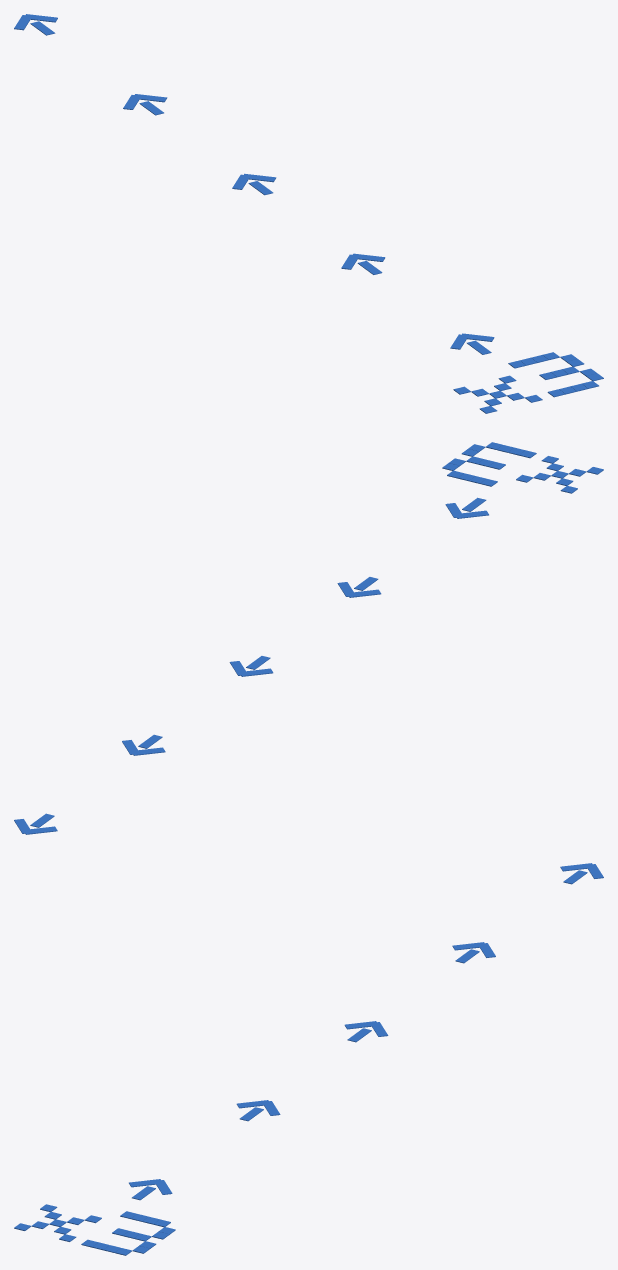
Rendered from mar-de-nubes_Marcas.glb.
3 views of the same model, one above another, from view 1: azimuth 30°, elevation 25°; view 2: azimuth 150°, elevation 25°; view 3: azimuth 330°, elevation 25° (orthographic).
Visible parts, largest first — view 1: Mapa_mar_de_nubes_Marcas; view 2: Mapa_mar_de_nubes_Marcas; view 3: Mapa_mar_de_nubes_Marcas.
Part boxes in pixels (<box>): Mapa_mar_de_nubes_Marcas: <box>14,14,603,413</box>; Mapa_mar_de_nubes_Marcas: <box>14,442,603,834</box>; Mapa_mar_de_nubes_Marcas: <box>14,863,603,1255</box>.
Size of the model in its own units: 39.53 by 0.24 by 288.
Materials: 1 (1 with a texture image).
